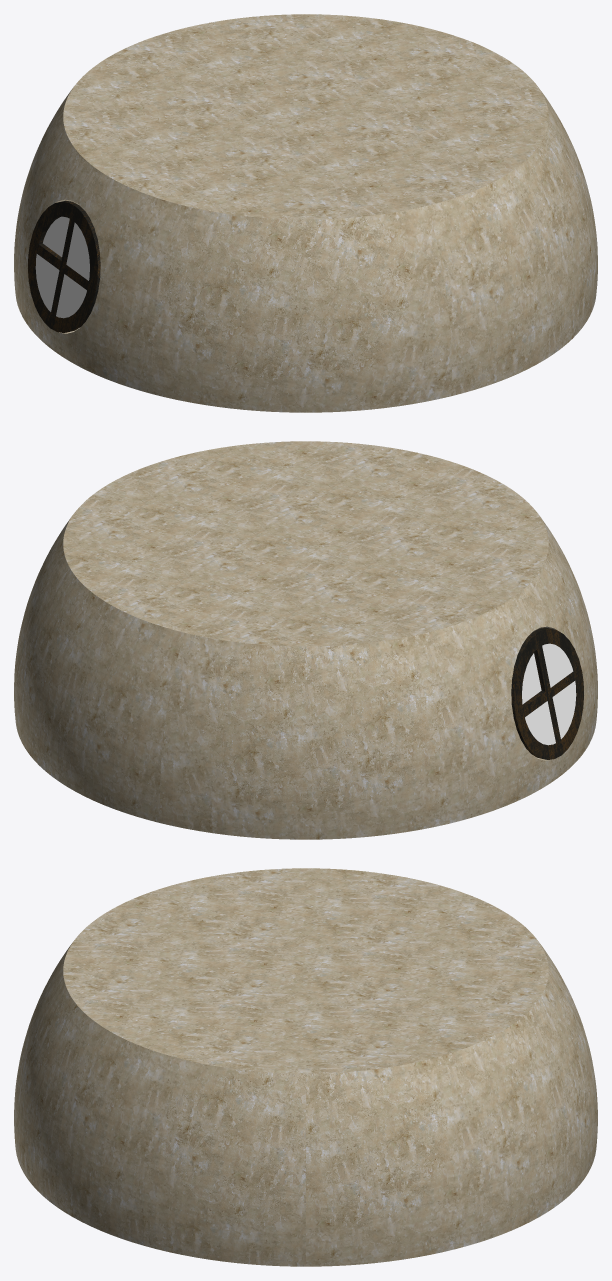
The model's file is hobbithouse.glb.
3 views of the same model, one above another, from view 1: azimuth 30°, elevation 25°; view 2: azimuth 150°, elevation 25°; view 3: azimuth 270°, elevation 25° (orthographic).
Visible parts, largest first — view 1: Sphere, Cylinder, Cylinder.001; view 2: Sphere, Cylinder, Cylinder.001; view 3: Sphere.
Part boxes in pixels (left/top/right/bottom): Sphere: left=14, top=14, right=597, bottom=412; Cylinder: left=28, top=200, right=100, bottom=332; Cylinder.001: left=35, top=216, right=89, bottom=318; Sphere: left=14, top=441, right=597, bottom=839; Cylinder: left=511, top=627, right=583, bottom=759; Cylinder.001: left=522, top=643, right=576, bottom=745; Sphere: left=14, top=868, right=597, bottom=1266.
Size of the model in its own units: 20.1 by 6.54 by 20.
3 materials, 2 textured.
